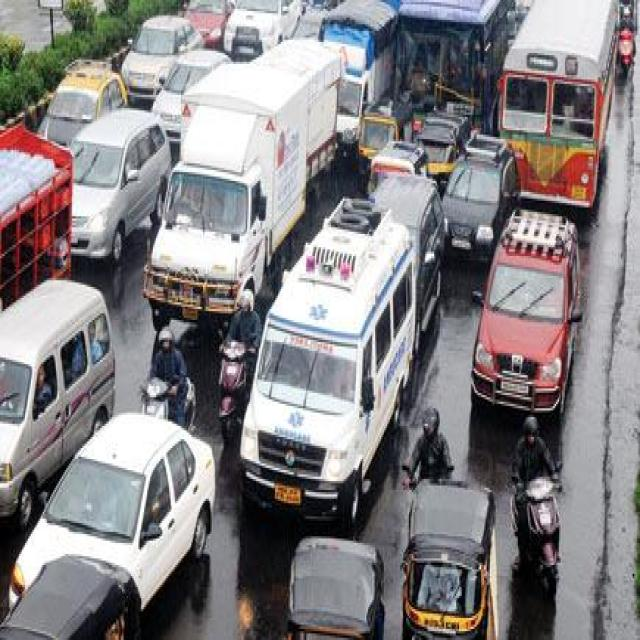autorickshaw: (402, 482, 494, 638)
bus: (500, 0, 618, 207)
car: (10, 412, 215, 608), (0, 281, 115, 526), (471, 210, 581, 413), (71, 112, 170, 260), (442, 135, 519, 260), (121, 17, 201, 106)
emergency: (241, 201, 415, 526)
motorcycle: (512, 416, 560, 596), (219, 289, 262, 441)
truck: (144, 64, 305, 329)
